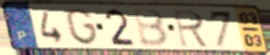2: (104, 8, 137, 47)
4: (39, 8, 65, 45)
7: (206, 9, 236, 48)
B: (131, 8, 171, 49)
G: (64, 7, 101, 47)
R: (172, 8, 212, 49)
